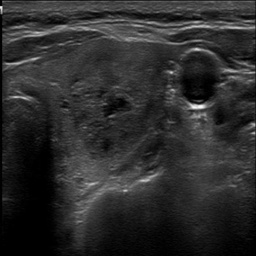mass: (67, 43, 163, 172)
